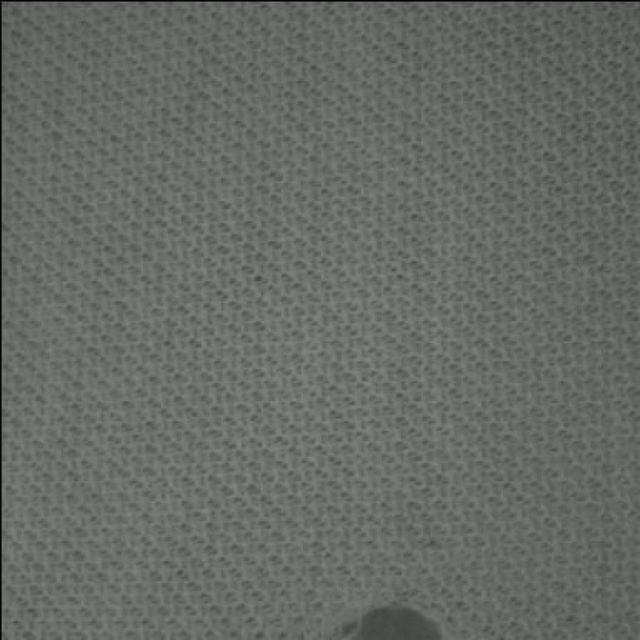Hole: (338, 606, 443, 639)
